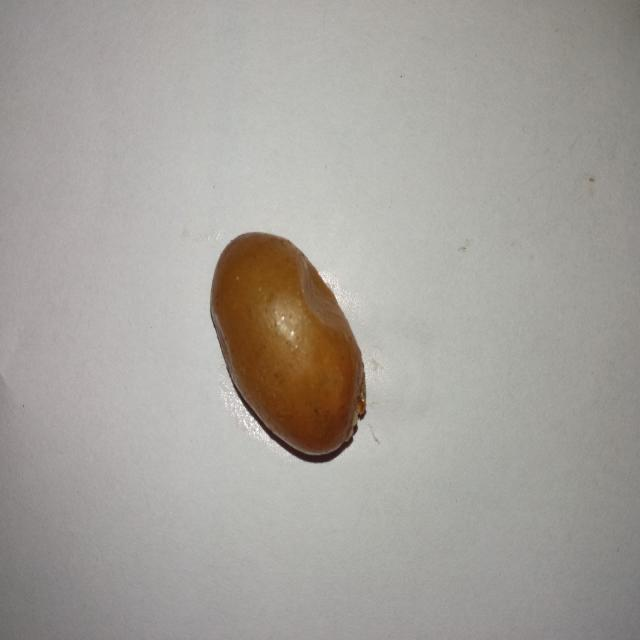rotten_grape: (214, 232, 366, 465)
